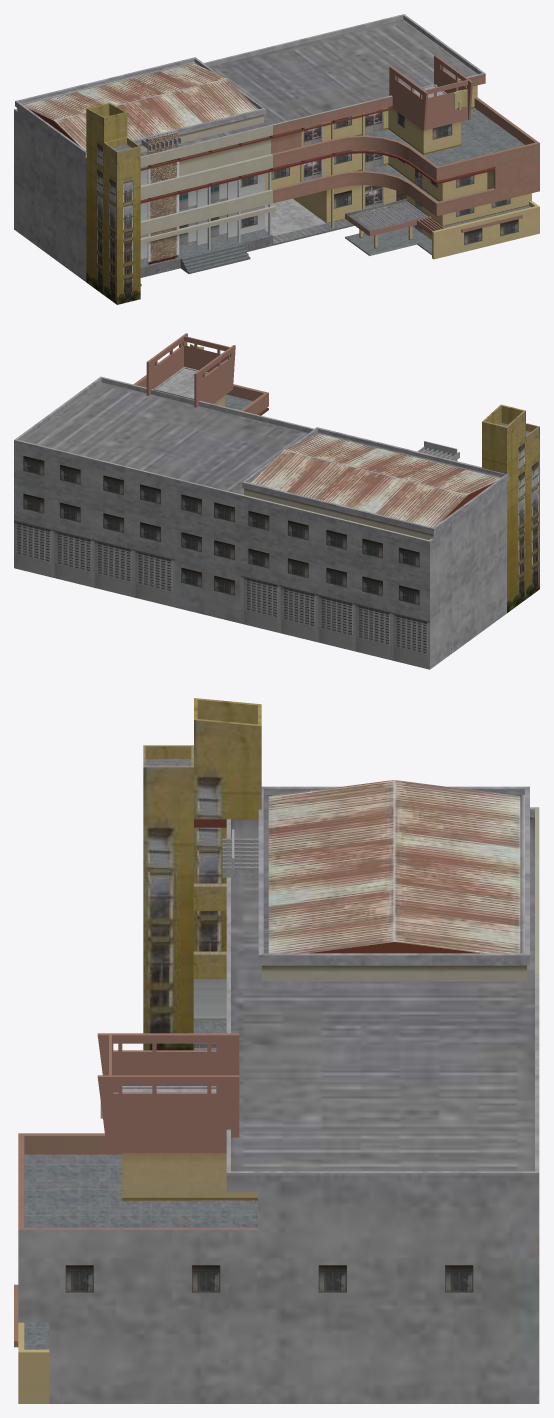
3 renders of one model, top to bottom at view 1: azimuth 30°, elevation 25°; view 2: azimuth 150°, elevation 25°; view 3: azimuth 270°, elevation 25°, orthographic. The views are drawn at different scales.
Parts seen in each view (by area): view 1: DN010_BQLAnToanThucPham.001; view 2: DN010_BQLAnToanThucPham.001; view 3: DN010_BQLAnToanThucPham.001.
Boxes of the visible parts, x1,y1,x2,y2 form: DN010_BQLAnToanThucPham.001: [14, 14, 539, 304]; DN010_BQLAnToanThucPham.001: [14, 333, 539, 669]; DN010_BQLAnToanThucPham.001: [14, 698, 539, 1403].
Size of the model in its own units: 41.67 by 18.01 by 25.23.
Materials: 1 (1 with a texture image).
